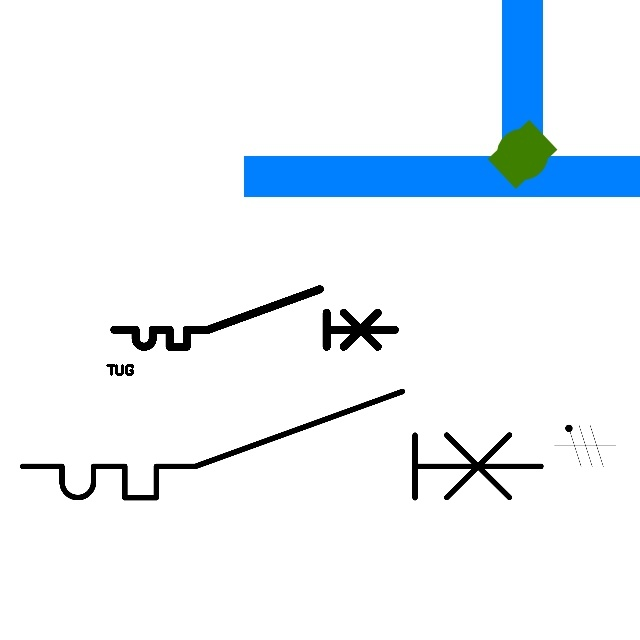interruptor_termomagnetico: (9, 378, 554, 511), (107, 282, 402, 354)
